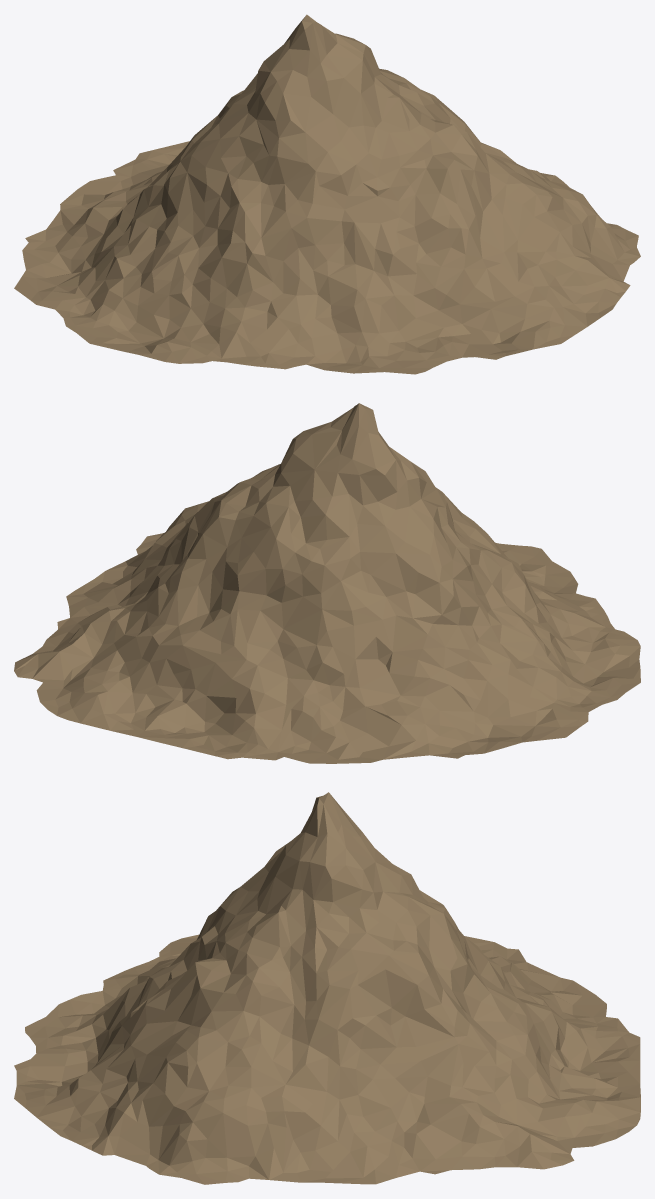
File: LargeTerrain01.fbx
3 renders of one model, top to bottom at view 1: azimuth 30°, elevation 25°; view 2: azimuth 150°, elevation 25°; view 3: azimuth 270°, elevation 25°, orthographic. The views are drawn at different scales.
Visible parts, largest first — view 1: LargeTerrain01; view 2: LargeTerrain01; view 3: LargeTerrain01.
Boxes of the visible parts, x1,y1,x2,y2 form: LargeTerrain01: [14, 14, 640, 374]; LargeTerrain01: [14, 403, 640, 763]; LargeTerrain01: [14, 792, 640, 1184].
Bounding box in the file's own units: 76.7 × 35.47 × 76.44.
